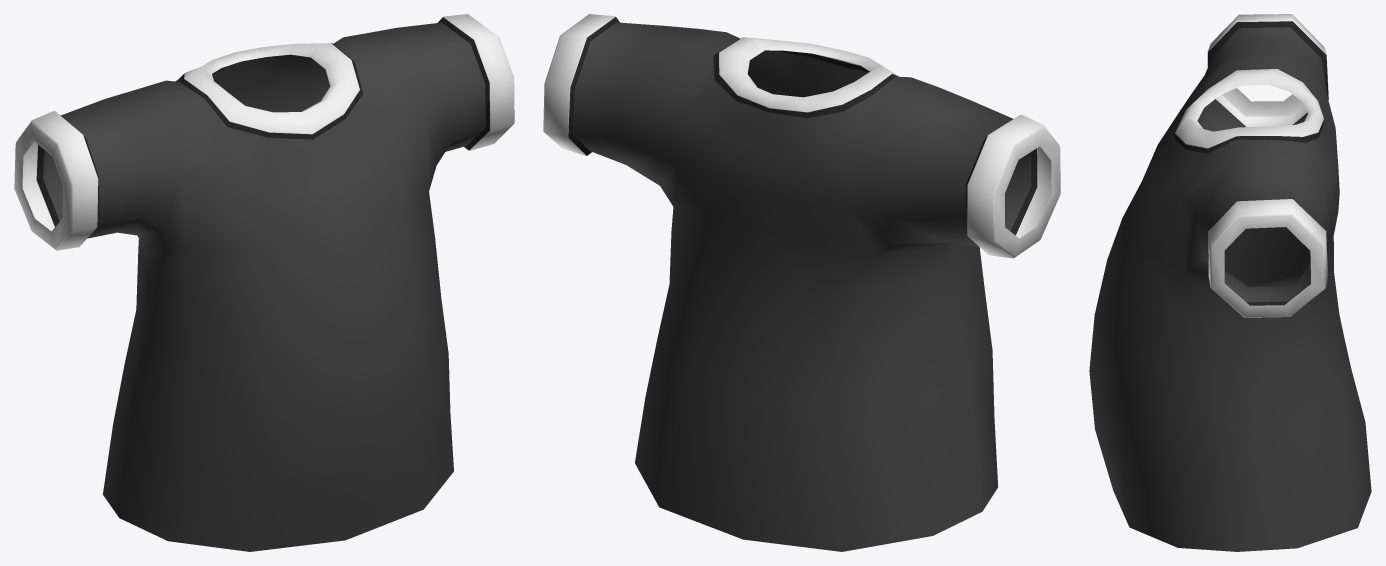
The model's file is Outerwear_Black_012.glb.
The picture shows the model from 3 angles, left to right: view 1: azimuth 30°, elevation 25°; view 2: azimuth 150°, elevation 25°; view 3: azimuth 270°, elevation 25°; orthographic projection. The views are drawn at different scales.
Visible parts, largest first — view 1: Outerwear_Black_012; view 2: Outerwear_Black_012; view 3: Outerwear_Black_012.
Boxes of the visible parts, x1,y1,x2,y2 form: Outerwear_Black_012: (14,14,514,551); Outerwear_Black_012: (543,14,1060,551); Outerwear_Black_012: (1089,14,1371,551).
Bounding box in the file's own units: 0.6902 × 0.6213 × 0.4059.
Materials: 1 (1 with a texture image).
